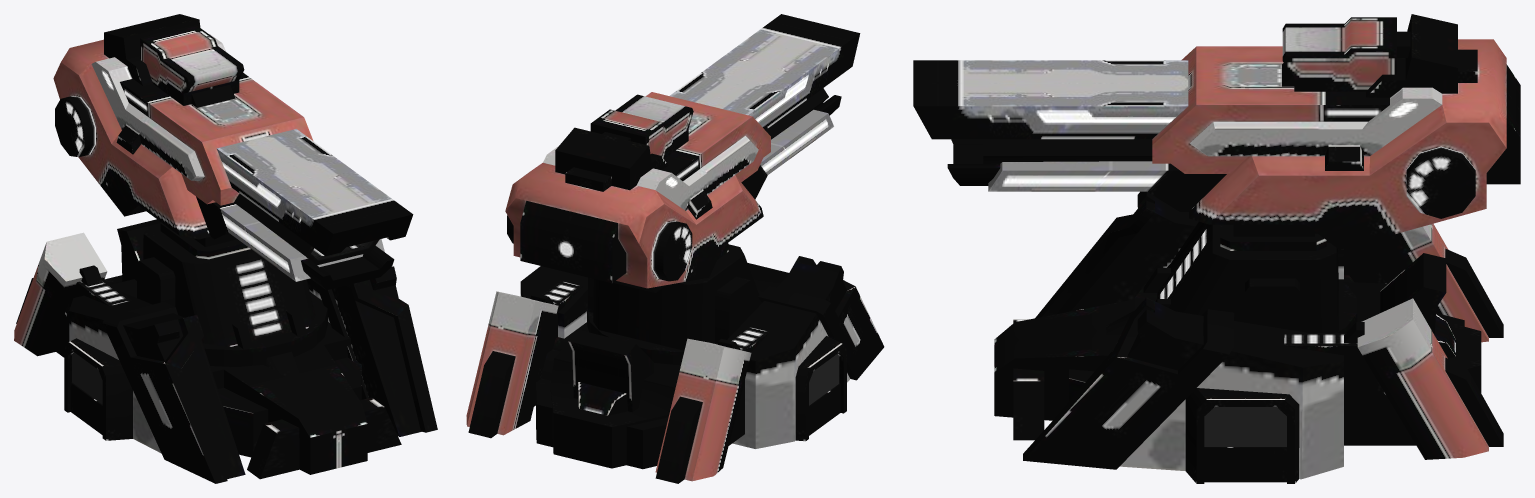
The picture shows the model from 3 angles, left to right: view 1: azimuth 30°, elevation 25°; view 2: azimuth 150°, elevation 25°; view 3: azimuth 270°, elevation 25°; orthographic projection. The views are drawn at different scales.
Parts seen in each view (by area): view 1: turret-cannon; view 2: turret-cannon; view 3: turret-cannon.
Boxes of the visible parts, x1,y1,x2,y2 form: turret-cannon: (14, 14, 437, 483); turret-cannon: (466, 14, 884, 483); turret-cannon: (913, 14, 1520, 483).
Size of the model in its own units: 6.09 by 6.16 by 9.26.
Materials: 2 (1 with a texture image).
